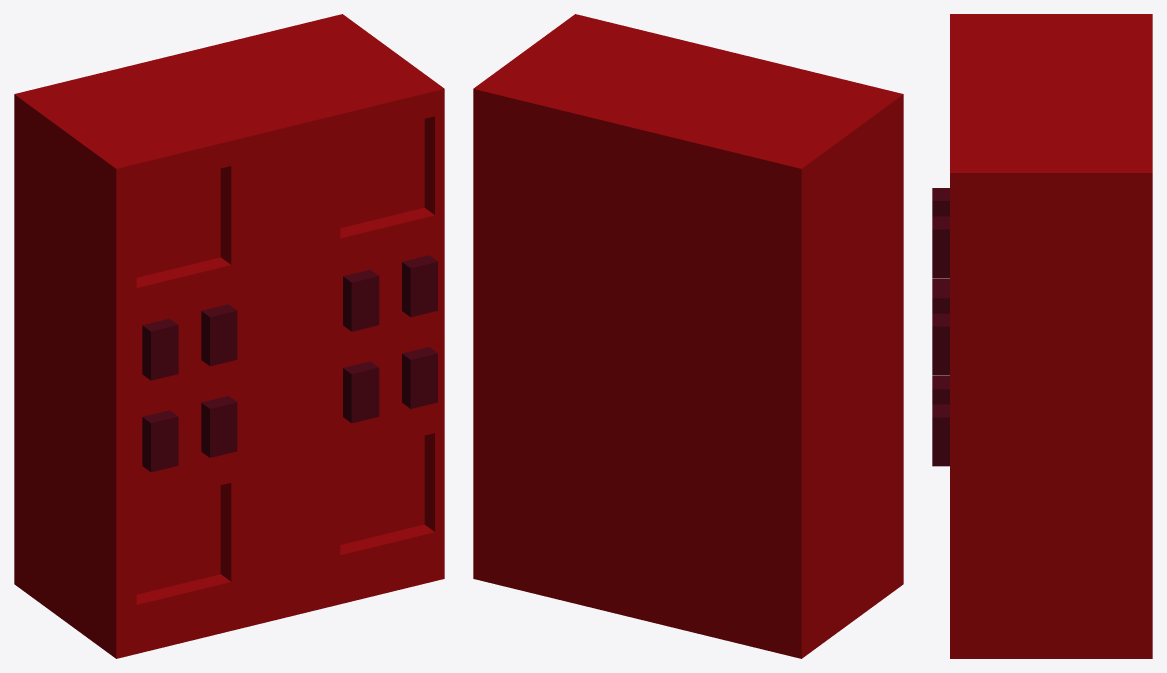
Rendered from Hotel.fbx.
3 views of the same model, side by side, from view 1: azimuth 30°, elevation 25°; view 2: azimuth 150°, elevation 25°; view 3: azimuth 270°, elevation 25° (orthographic).
Parts seen in each view (by area): view 1: Cube, Cube.002; view 2: Cube; view 3: Cube, Cube.002.
Part boxes in pixels (x1,y1,x2,y2): Cube: [14, 14, 444, 658]; Cube.002: [142, 255, 437, 472]; Cube: [473, 14, 903, 658]; Cube: [950, 14, 1152, 658]; Cube.002: [932, 188, 949, 466].
Size of the model in its own units: 3.71 by 5.29 by 2.17.
